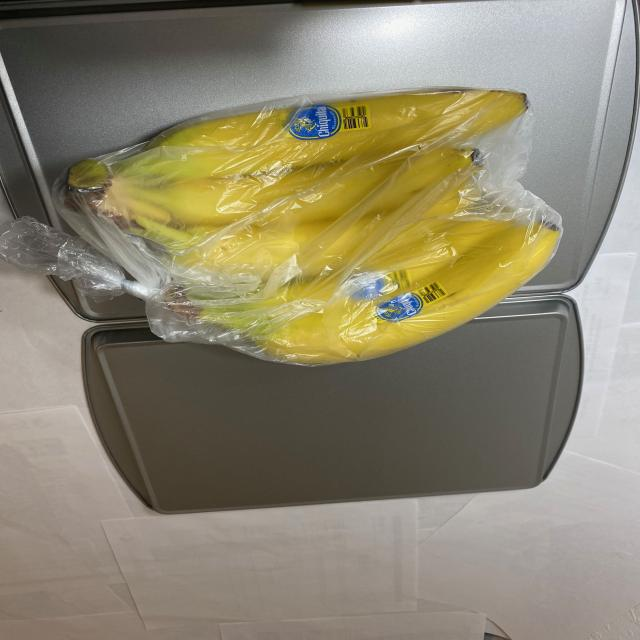banana: (52, 80, 560, 366)
